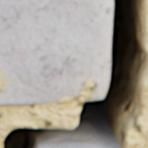brick: (0, 0, 112, 103), (60, 146, 80, 147)
crack: (1, 0, 147, 147)
